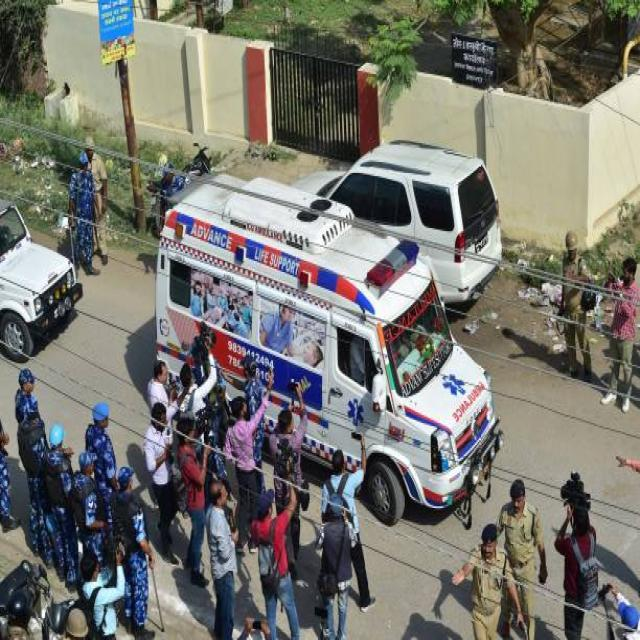ambulance: (156, 187, 503, 518)
